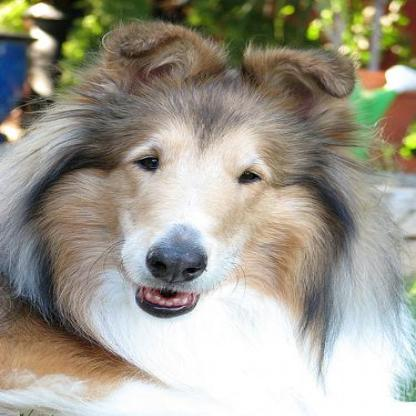collie: (0, 18, 413, 414)
